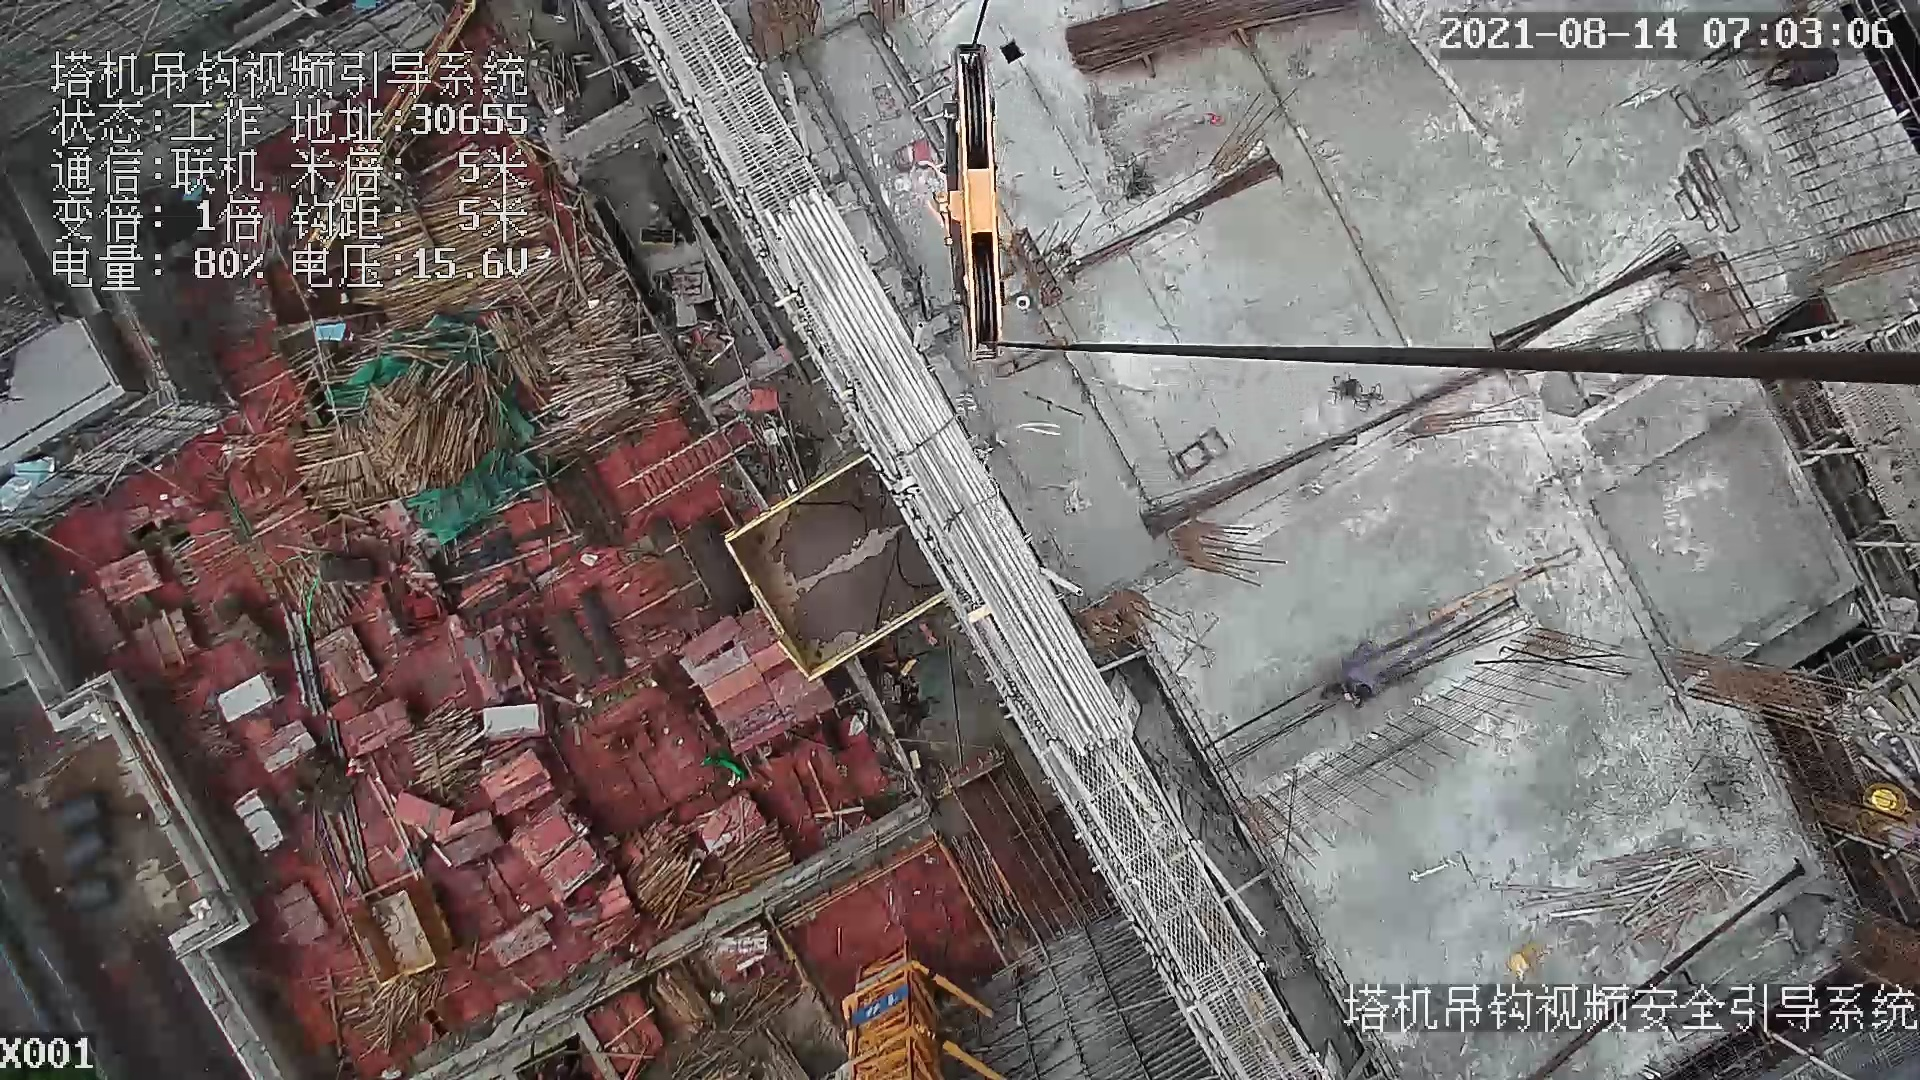hook: (936, 36, 1014, 362)
person: (1765, 47, 1840, 86), (1342, 642, 1385, 701)
slogan: (844, 984, 915, 1022)
